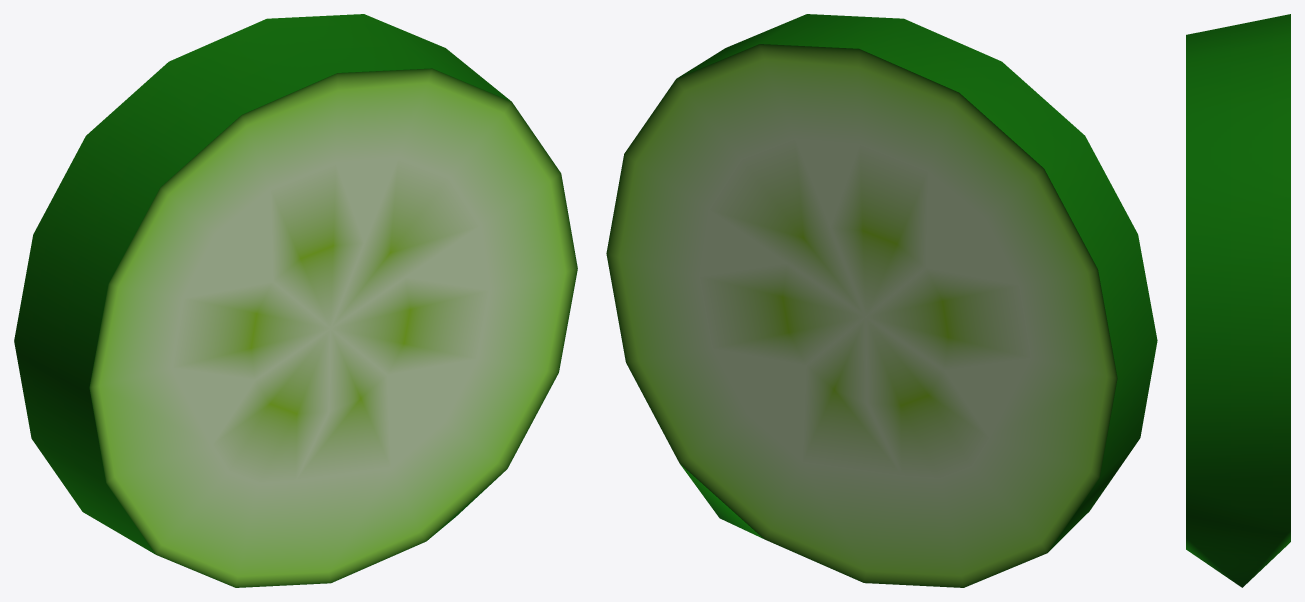
The model's file is Cucumber_Slice_05.fbx.
The picture shows the model from 3 angles, left to right: view 1: azimuth 30°, elevation 25°; view 2: azimuth 150°, elevation 25°; view 3: azimuth 270°, elevation 25°; orthographic projection. The views are drawn at different scales.
Parts seen in each view (by area): view 1: Cucumber_Slice_05; view 2: Cucumber_Slice_05; view 3: Cucumber_Slice_05.
Boxes of the visible parts, x1,y1,x2,y2 form: Cucumber_Slice_05: [14, 14, 577, 587]; Cucumber_Slice_05: [606, 14, 1157, 587]; Cucumber_Slice_05: [1186, 14, 1290, 587].
Size of the model in its own units: 4.39 by 4.34 by 0.8586.
